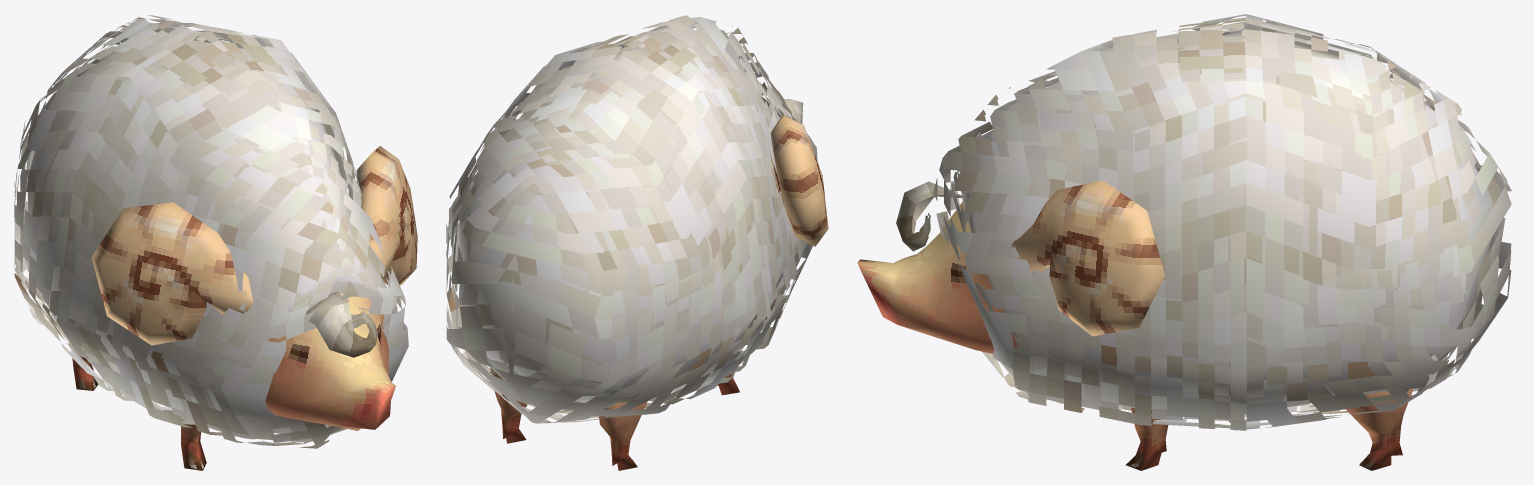
3 renders of one model, left to right at view 1: azimuth 30°, elevation 25°; view 2: azimuth 150°, elevation 25°; view 3: azimuth 270°, elevation 25°, orthographic. The views are drawn at different scales.
Parts seen in each view (by area): view 1: mesh00; view 2: mesh00; view 3: mesh00.
Part boxes in pixels (x1=…): mesh00: x1=14, y1=15, x2=417, y2=470; mesh00: x1=446, y1=15, x2=828, y2=470; mesh00: x1=857, y1=14, x2=1511, y2=470.
Bounding box in the file's own units: 142 × 168 × 245.
Materials: 1 (1 with a texture image).
